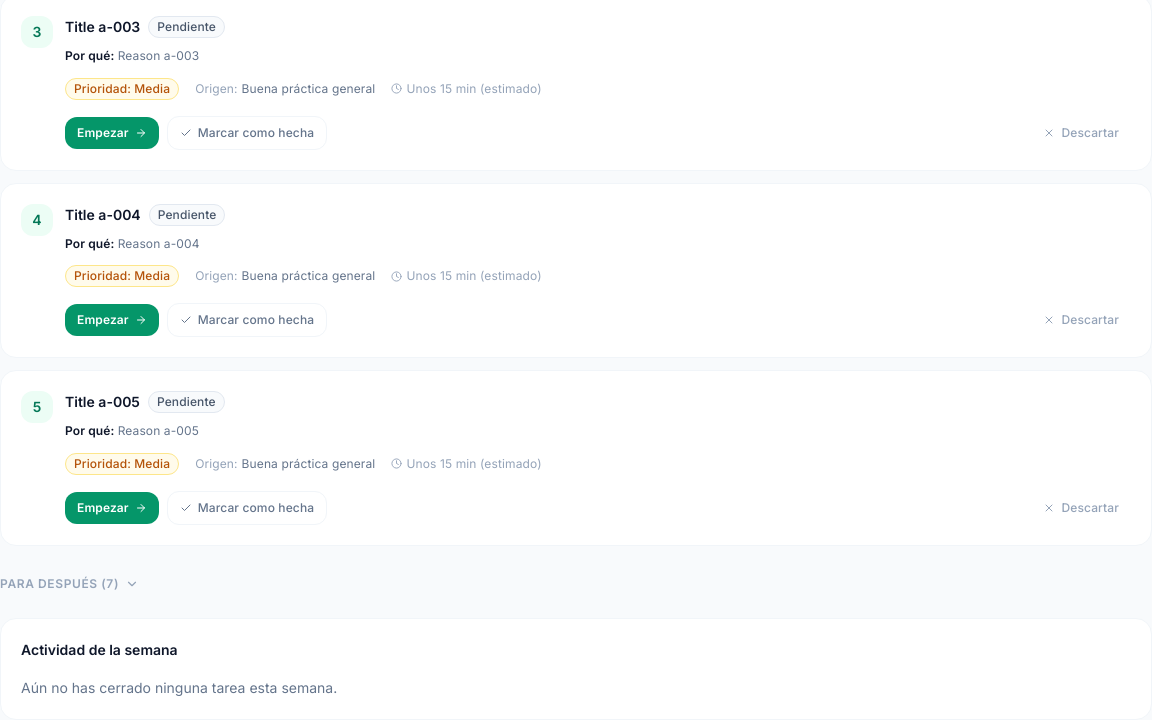
Test case: five-action limit and later section › shows at most five priorities, in rank order, and every other open action behind a collapsed toggle
(page scrolled)
Click the button "Para después (7)": (70, 584) [0,576,139,592]
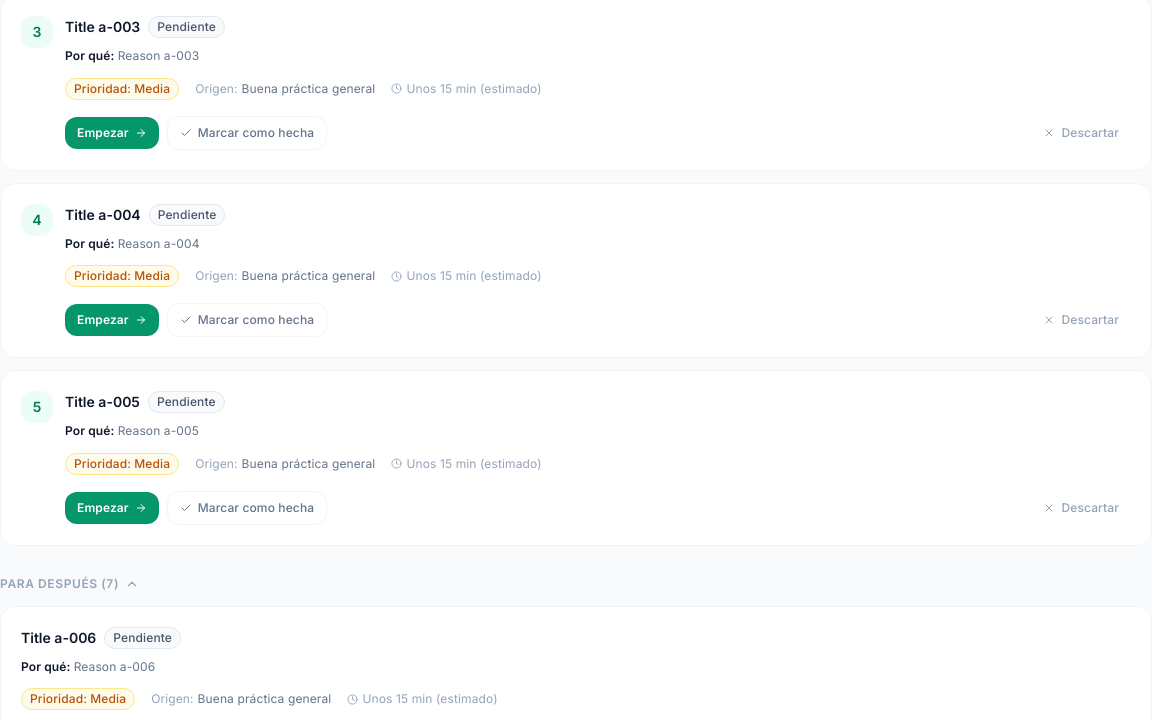
Check: the button "Para después (7)" is expanded, box [0,576,139,592]
